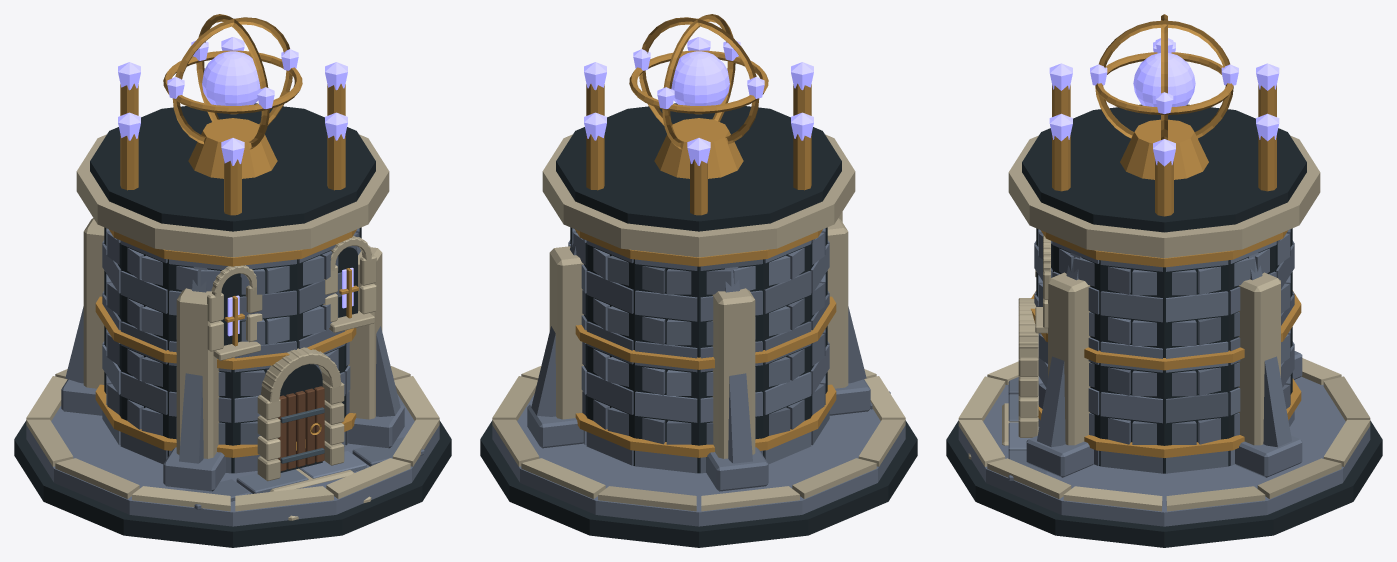
The model's file is mage__base__L01.glb.
3 renders of one model, left to right at view 1: azimuth 30°, elevation 25°; view 2: azimuth 150°, elevation 25°; view 3: azimuth 270°, elevation 25°, orthographic.
Visible parts, largest first — view 1: structure, weapon; view 2: structure, weapon; view 3: structure, weapon.
Boxes of the visible parts, box(x1,y1,x2,y2) form: structure: box(14, 37, 451, 547); weapon: box(163, 14, 302, 178); structure: box(480, 37, 917, 547); weapon: box(629, 14, 768, 178); structure: box(946, 41, 1382, 547); weapon: box(1090, 14, 1238, 179).
Size of the model in its own units: 0.8624 by 0.9493 by 0.8624.
